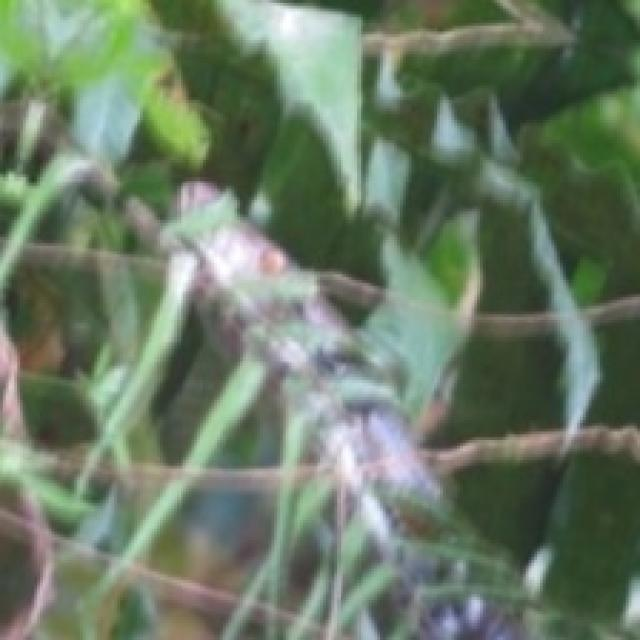reticulated python: (165, 181, 521, 640)
